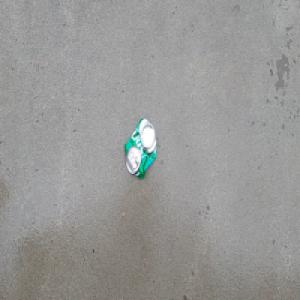SodaCan: (124, 116, 158, 180)
